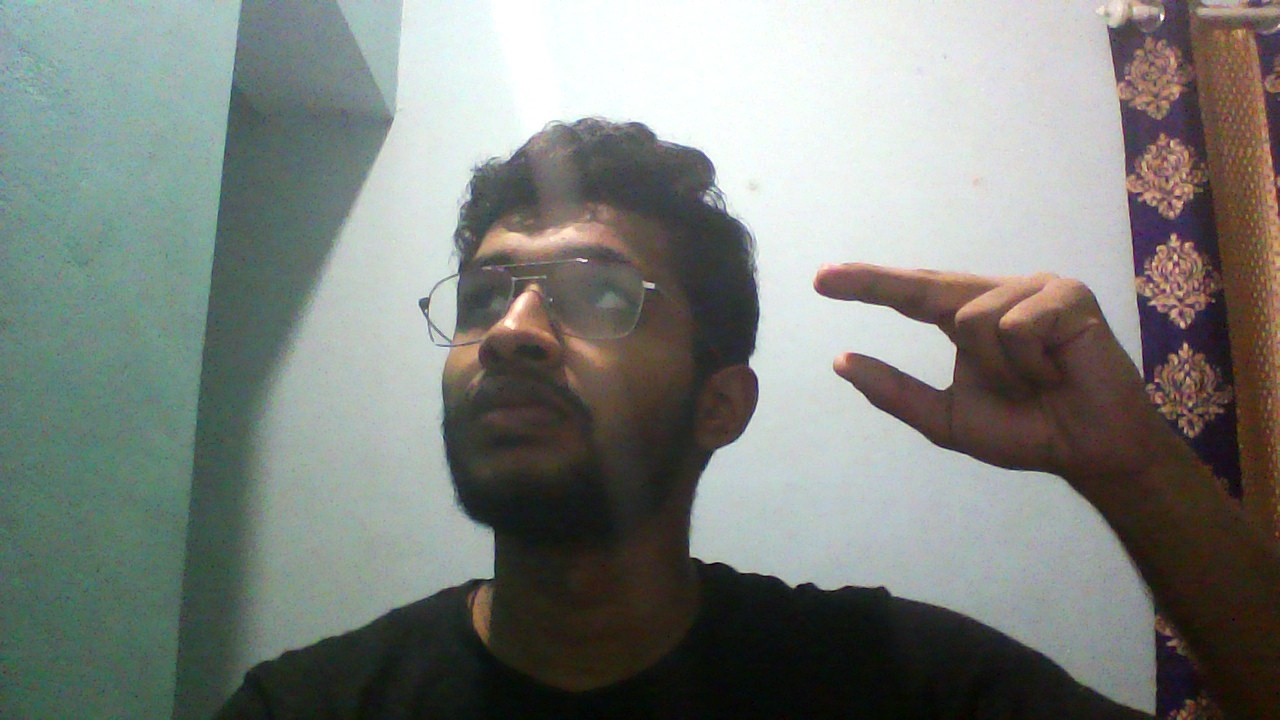No: (795, 253, 1152, 486)
